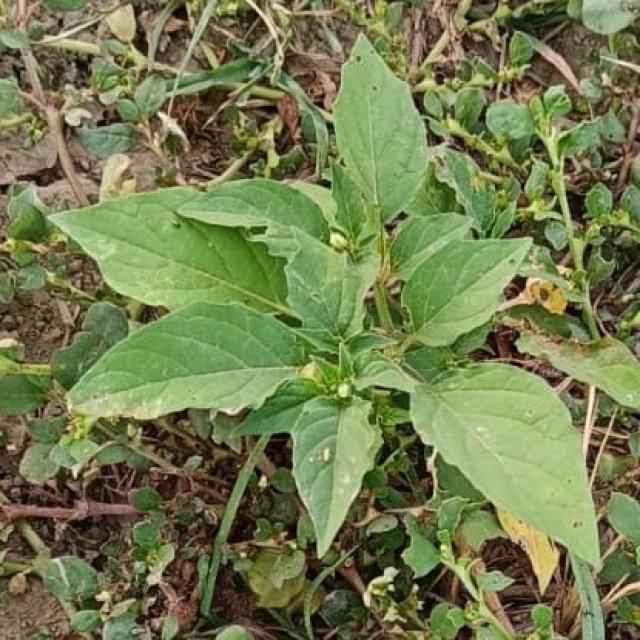weed: (52, 36, 600, 563)
